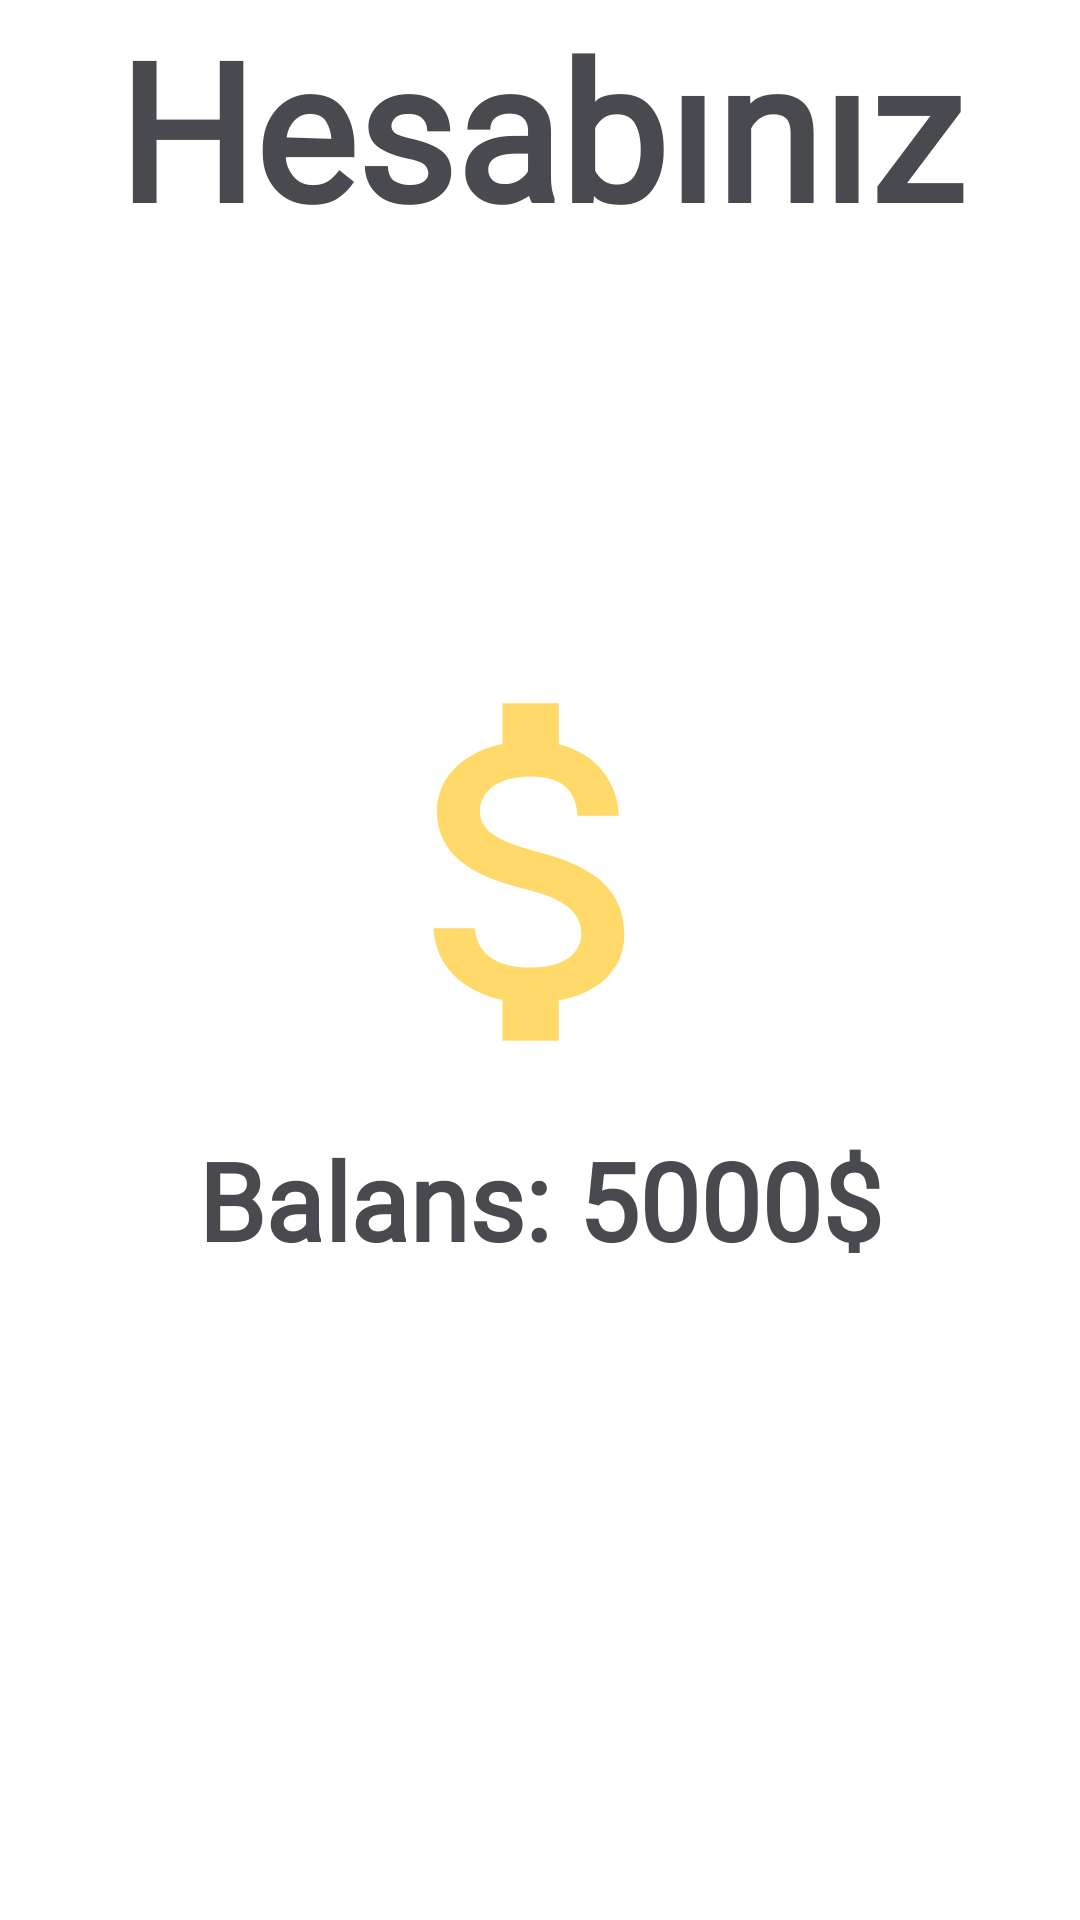

Screen size 1080 x 1920. Icon name, then its box in pixels as (x1, y1, x2, y2):
money: (433, 703, 625, 1041)
